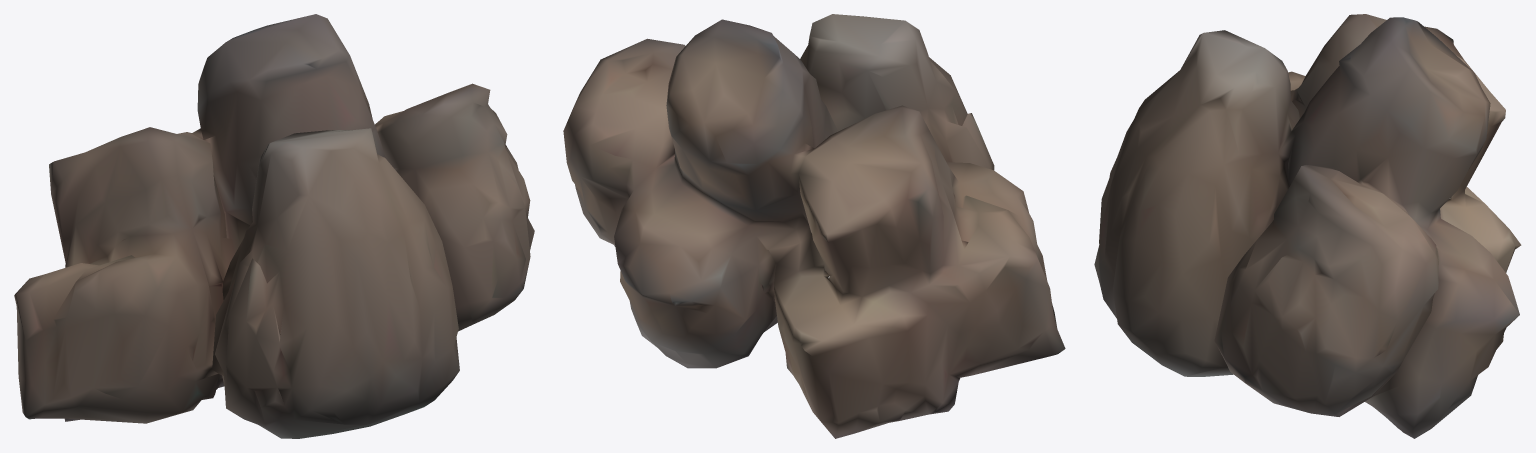
Rendered from barris.glb.
The picture shows the model from 3 angles, left to right: view 1: azimuth 30°, elevation 25°; view 2: azimuth 150°, elevation 25°; view 3: azimuth 270°, elevation 25°; orthographic projection. The views are drawn at different scales.
Bounding box in the file's own units: 1.1 × 0.7865 × 0.772.
